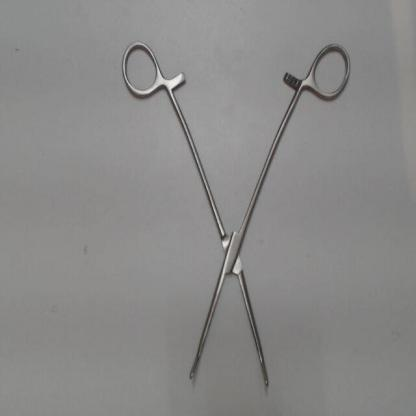Lahey Forceps: (110, 39, 358, 395)
